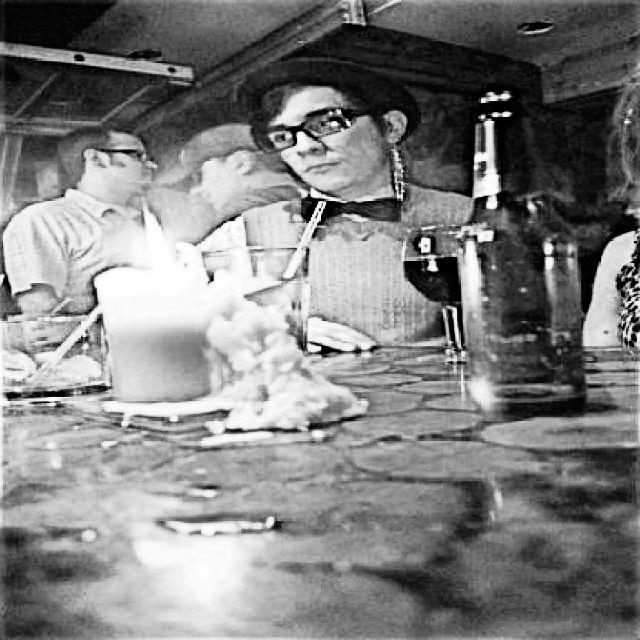Person: (175, 54, 477, 356), (1, 121, 175, 317)
